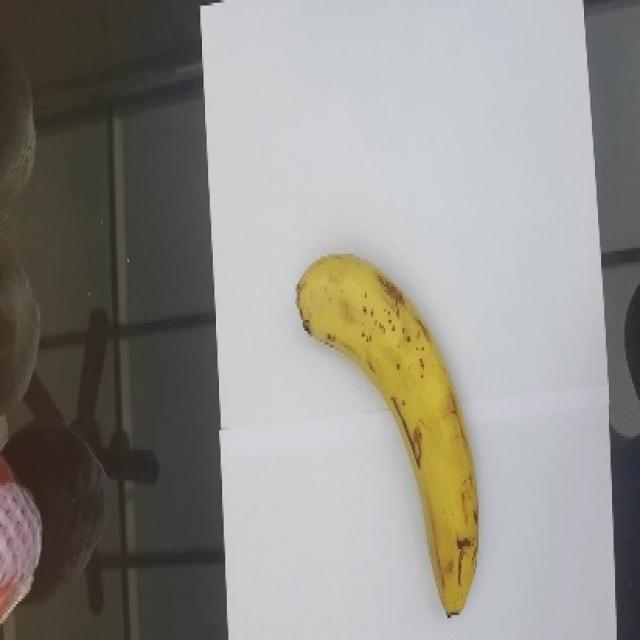Banana: (294, 250, 482, 616)
